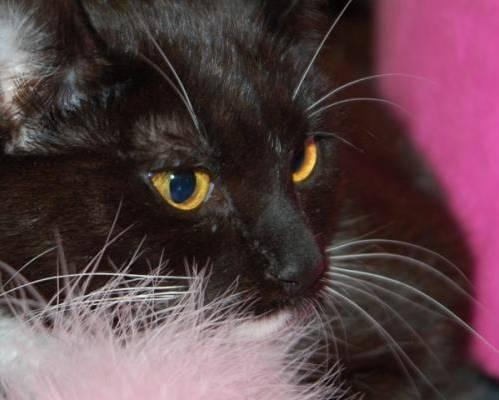cat: (0, 0, 470, 399)
